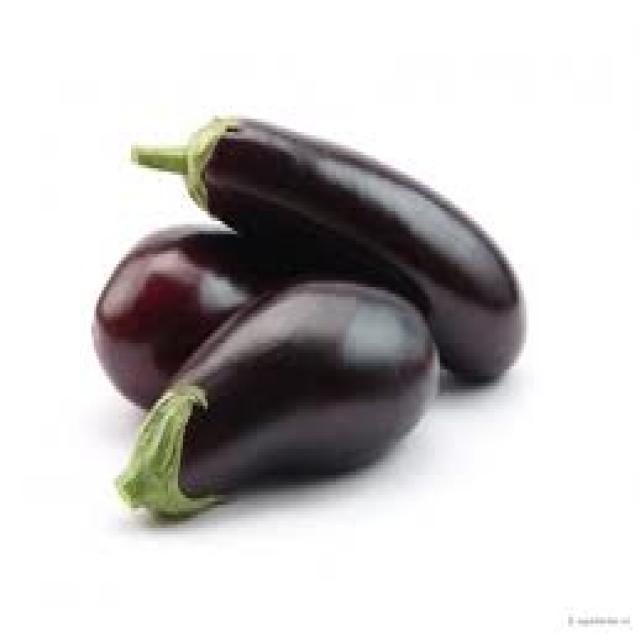Aubergine: (121, 89, 539, 383), (104, 268, 452, 544)
